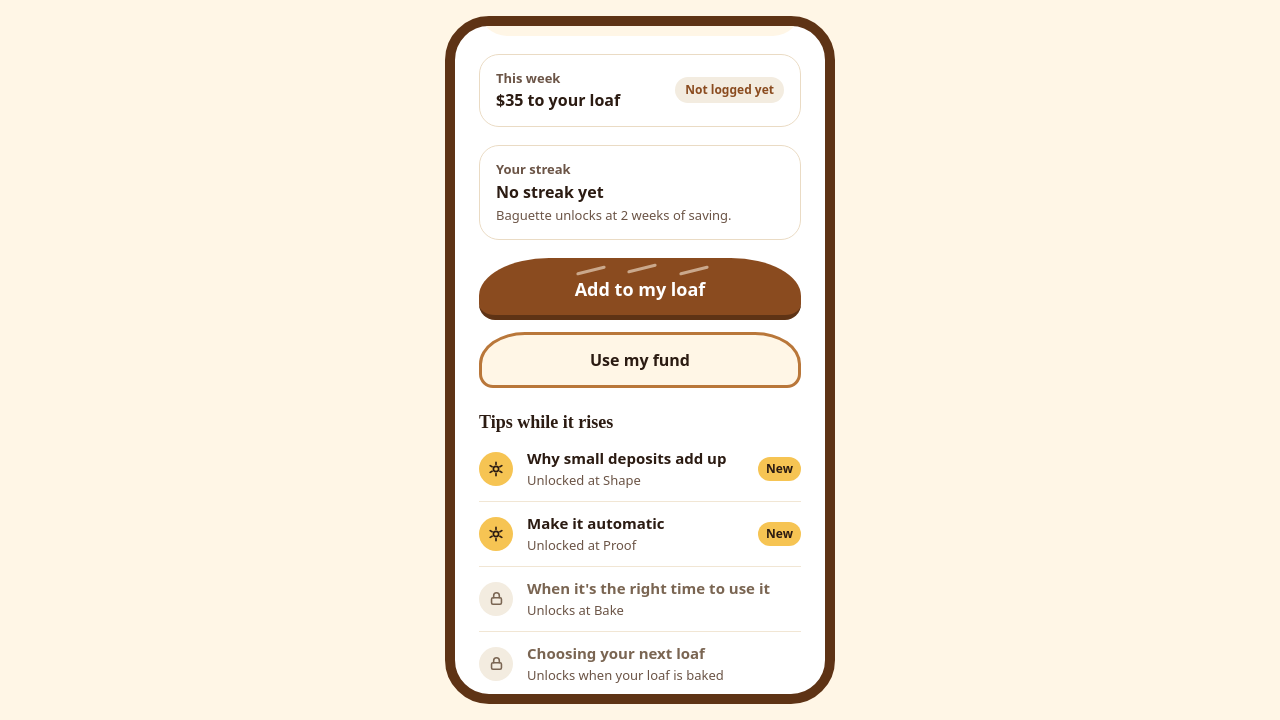
it: use my fund › shows what is available, then logs the withdrawal with the supportive message and a smaller loaf
The width and height of the screenshot is (1280, 720).
(page scrolled)
Click the button "Use my fund" at (640, 360), box [479,332,801,388]
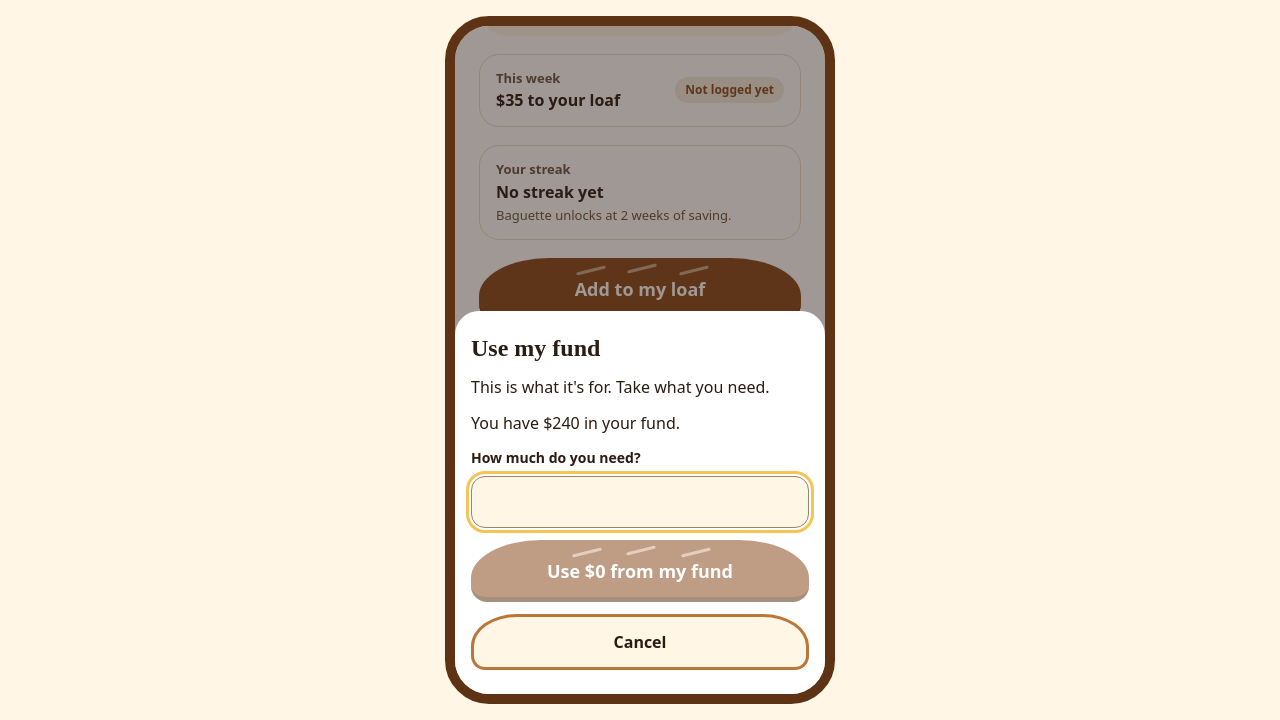
expect the text "You have $240 in your fund." is shown: met, box [471,412,680,434]
expect the field labelled "How much do you need?" is empty: met
Type "200" into the field labelled "How much do you need?" at (640, 502), box [471,476,809,528]
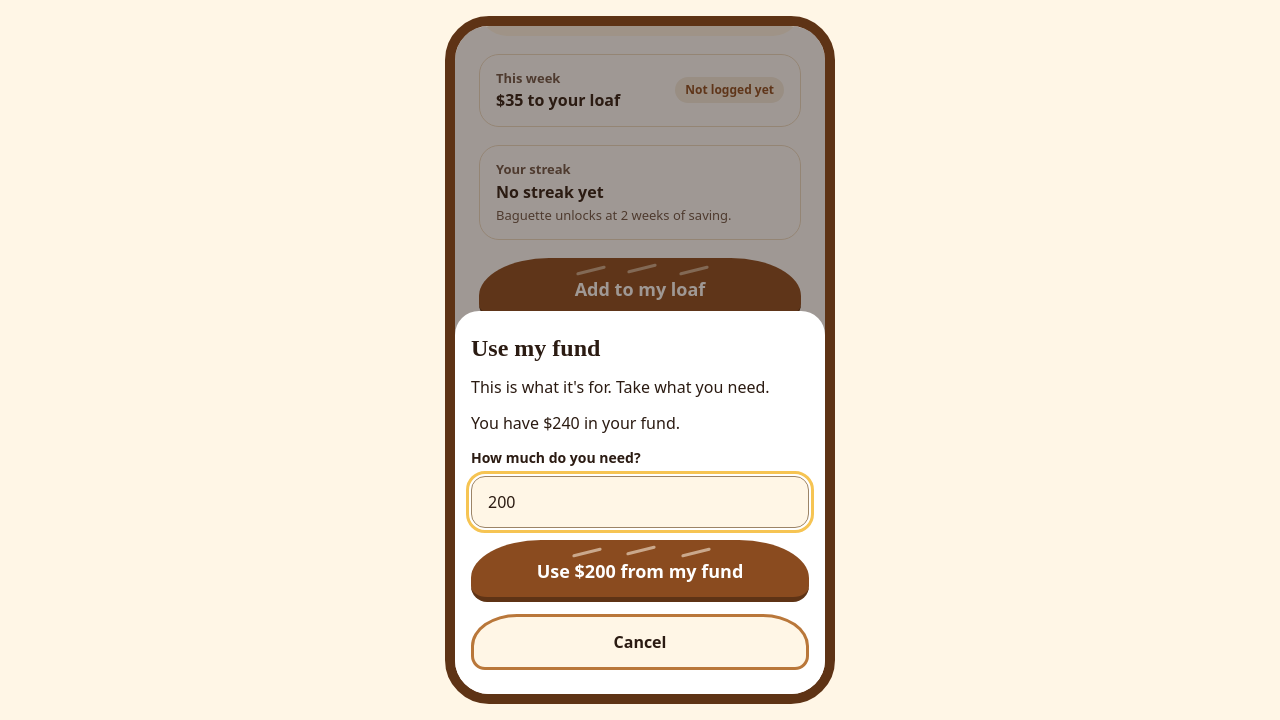
Click the button "Use $200 from my fund" at (640, 571), box [471,540,809,602]
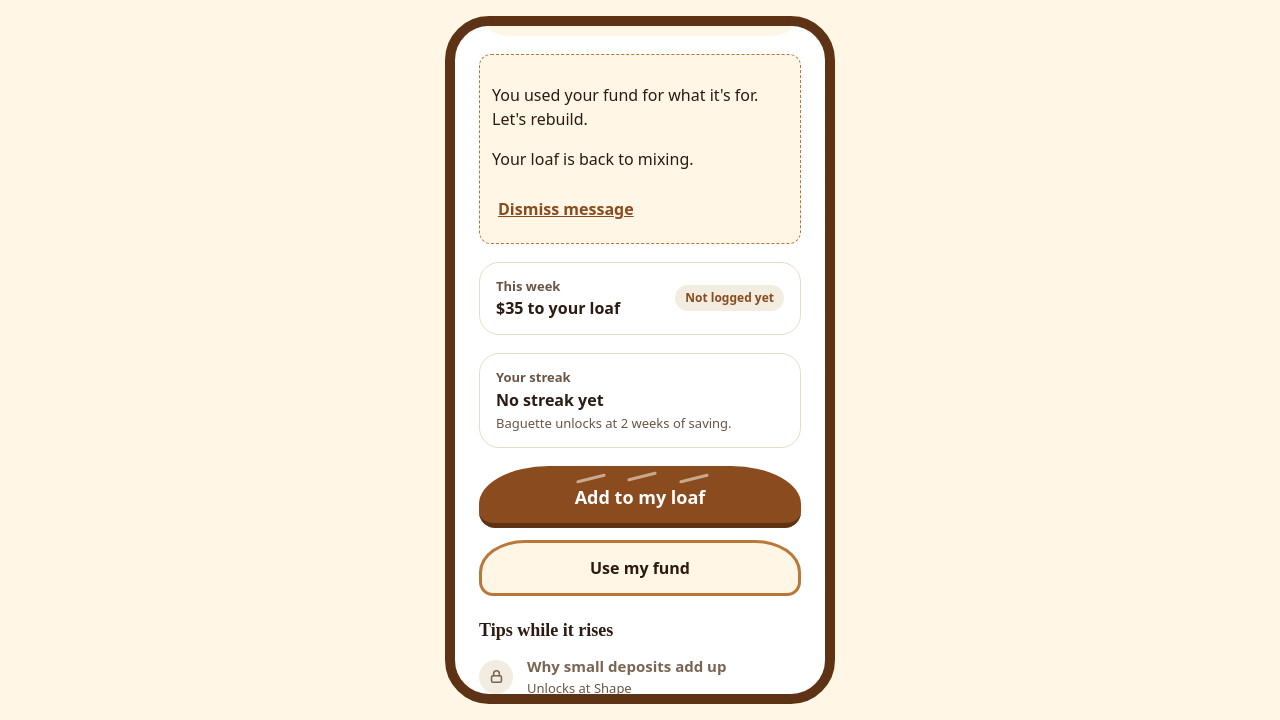
expect the message shows "You used your fund for what it's for. Let's rebuild.": met, box [492,84,758,130]
expect the message shows "Your loaf is back to mixing.": met, box [492,148,694,170]
